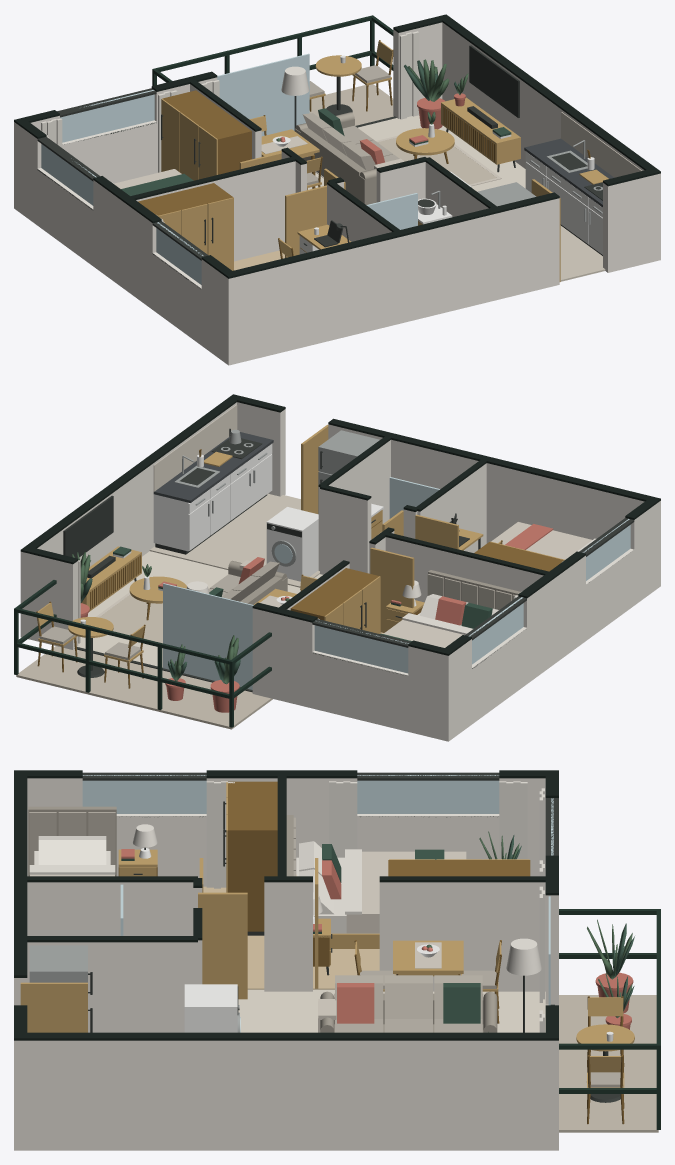
Rendered from jda-interior-tipo-a-simples.glb.
The picture shows the model from 3 angles, top to bottom: view 1: azimuth 30°, elevation 25°; view 2: azimuth 150°, elevation 25°; view 3: azimuth 270°, elevation 25°; orthographic projection. The views are drawn at different scales.
Parts seen in each view (by area): view 1: VIS__INTA_PAREDE, VIS__INTA_MADEIRA, VIS__INTA_CORTE, VIS__INTA_VIDRO, VIS__INTA_ESCURO, VIS__INTA_MADEIRA_ESC, VIS__INTA_BRANCO, VIS__INTA_TECIDO, VIS__INTA_TECIDO2, VIS__INTA_ESTOFADO2, VIS__INTA_ESTOFADO, VIS__INTA_PISO (+9 smaller); view 2: VIS__INTA_PAREDE, VIS__INTA_VIDRO, VIS__INTA_MADEIRA, VIS__INTA_CORTE, VIS__INTA_BRANCO, VIS__INTA_VARANDA, VIS__INTA_ESCURO, VIS__INTA_TECIDO2, VIS__INTA_MADEIRA_ESC, VIS__INTA_GUARDACORPO, VIS__INTA_MOLHADO, VIS__INTA_ESTOFADO2 (+9 smaller); view 3: VIS__INTA_PAREDE, VIS__INTA_CORTE, VIS__INTA_TECIDO, VIS__INTA_MADEIRA, VIS__INTA_VIDRO, VIS__INTA_MADEIRA_ESC, VIS__INTA_ESTOFADO2, VIS__INTA_VARANDA, VIS__INTA_PISO, VIS__INTA_ESCURO, VIS__INTA_TECIDO2, VIS__INTA_GUARDACORPO (+7 smaller).
Part boxes in pixels (<box>): VIS__INTA_PAREDE: <box>14,22,660,365</box>; VIS__INTA_MADEIRA: <box>158,41,608,281</box>; VIS__INTA_CORTE: <box>14,14,660,288</box>; VIS__INTA_VIDRO: <box>41,53,417,284</box>; VIS__INTA_ESCURO: <box>37,45,602,260</box>; VIS__INTA_MADEIRA_ESC: <box>138,40,590,258</box>; VIS__INTA_BRANCO: <box>272,55,602,254</box>; VIS__INTA_TECIDO: <box>40,31,419,222</box>; VIS__INTA_TECIDO2: <box>114,112,641,188</box>; VIS__INTA_ESTOFADO2: <box>302,65,399,185</box>; VIS__INTA_ESTOFADO: <box>295,112,376,204</box>; VIS__INTA_PISO: <box>307,115,604,281</box>; VIS__INTA_PAREDE: <box>20,402,660,741</box>; VIS__INTA_VIDRO: <box>163,477,630,689</box>; VIS__INTA_MADEIRA: <box>37,424,564,662</box>; VIS__INTA_CORTE: <box>20,394,660,673</box>; VIS__INTA_BRANCO: <box>80,444,464,624</box>; VIS__INTA_VARANDA: <box>16,646,272,729</box>; VIS__INTA_ESCURO: <box>63,428,634,692</box>; VIS__INTA_TECIDO2: <box>96,404,591,647</box>; VIS__INTA_MADEIRA_ESC: <box>36,449,563,688</box>; VIS__INTA_GUARDACORPO: <box>14,580,271,727</box>; VIS__INTA_MOLHADO: <box>149,493,319,587</box>; VIS__INTA_ESTOFADO2: <box>39,561,515,660</box>; VIS__INTA_PAREDE: <box>14,778,558,1150</box>; VIS__INTA_CORTE: <box>14,770,558,1040</box>; VIS__INTA_TECIDO: <box>29,781,544,1032</box>; VIS__INTA_MADEIRA: <box>20,782,634,1087</box>; VIS__INTA_VIDRO: <box>82,775,553,1032</box>; VIS__INTA_MADEIRA_ESC: <box>118,781,624,1124</box>; VIS__INTA_ESTOFADO2: <box>29,812,623,1087</box>; VIS__INTA_VARANDA: <box>559,995,658,1132</box>; VIS__INTA_PISO: <box>238,989,548,1032</box>; VIS__INTA_ESCURO: <box>82,772,620,1102</box>; VIS__INTA_TECIDO2: <box>30,851,466,1032</box>; VIS__INTA_GUARDACORPO: <box>559,909,660,1129</box>.
Bounding box in the file's own units: 7.15 × 1.44 × 7.3.
